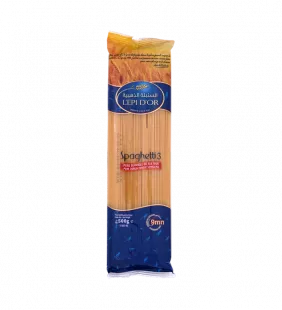L'EPI D'OR: (100, 20, 181, 285)
